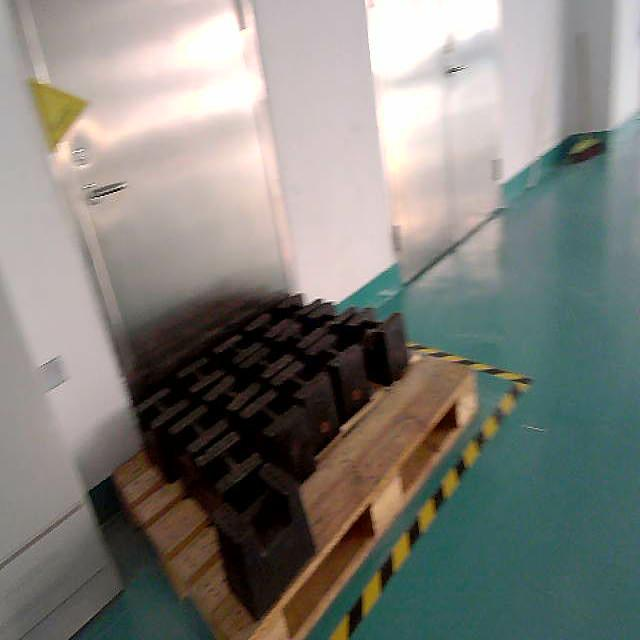euro: (113, 357, 476, 639)
